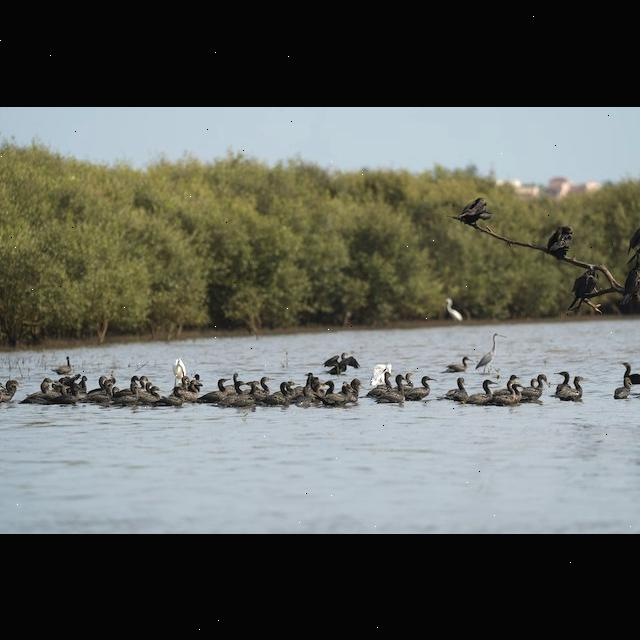cormorant: (552, 364, 590, 406), (312, 375, 348, 409), (257, 374, 291, 408), (26, 374, 58, 410), (203, 373, 230, 409), (618, 352, 640, 396), (404, 374, 436, 402), (439, 373, 466, 402)
egret: (168, 355, 188, 383)
heron: (468, 328, 508, 377)
